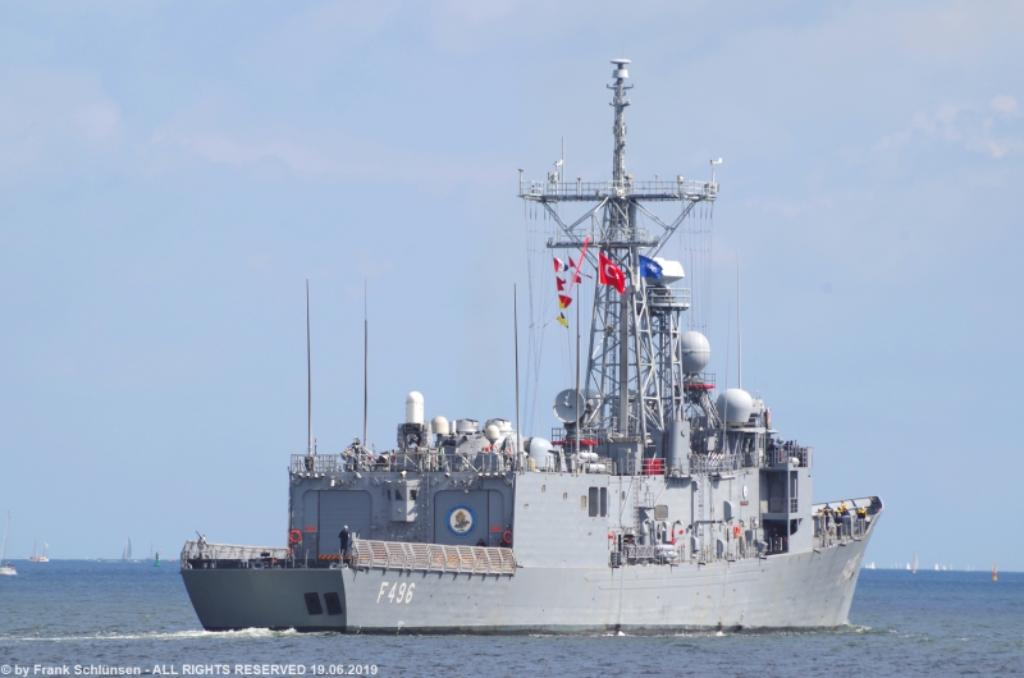Warship: (172, 49, 886, 640)
